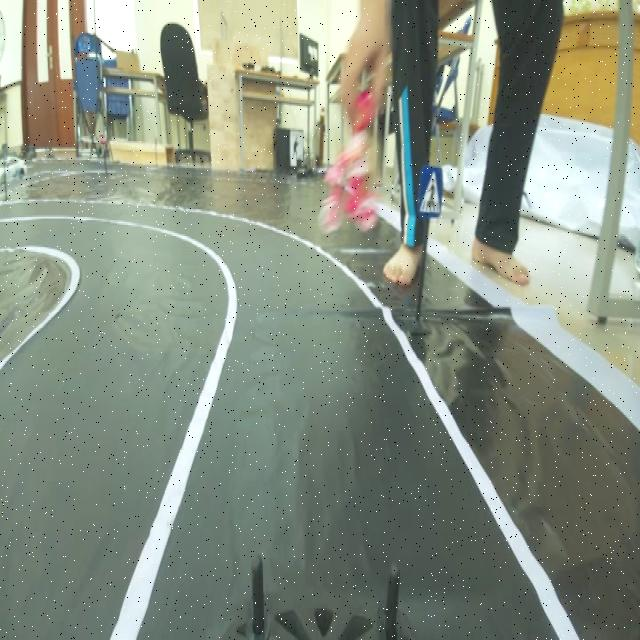crosswalk: (417, 161, 445, 226)
